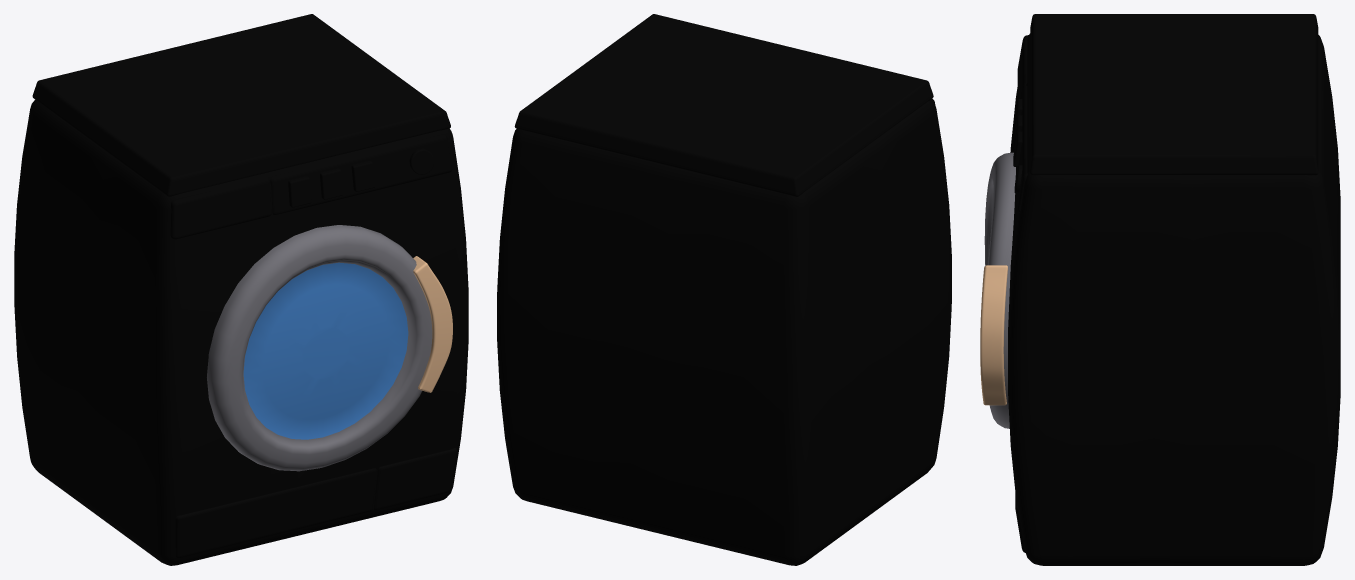
File: Machina.FBX
3 views of the same model, side by side, from view 1: azimuth 30°, elevation 25°; view 2: azimuth 150°, elevation 25°; view 3: azimuth 270°, elevation 25° (orthographic). The views are drawn at different scales.
Visible parts, largest first — view 1: Machine, Kapak; view 2: Machine; view 3: Machine, Kapak.
Part boxes in pixels (x1=…): Machine: x1=14, y1=14, x2=468, y2=565; Kapak: x1=207, y1=225, x2=452, y2=471; Machine: x1=497, y1=14, x2=951, y2=565; Machine: x1=1008, y1=14, x2=1340, y2=565; Kapak: x1=980, y1=152, x2=1015, y2=428.
Size of the model in its own units: 64.3 by 77.48 by 61.31.
